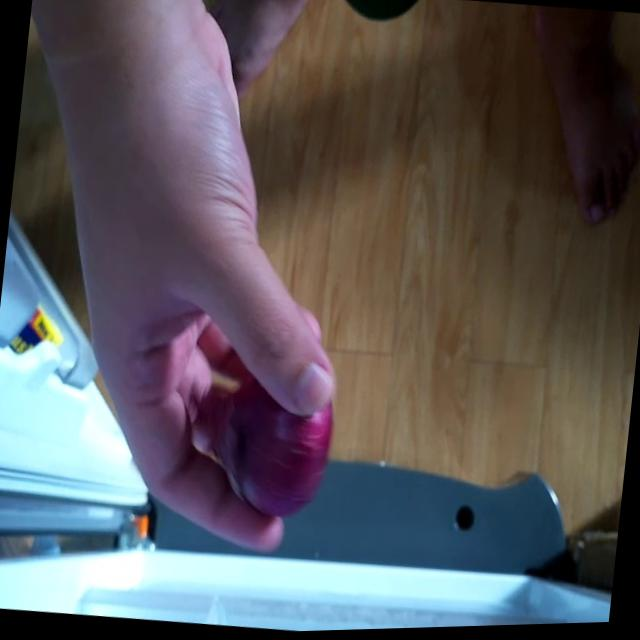onion: (214, 373, 340, 521)
